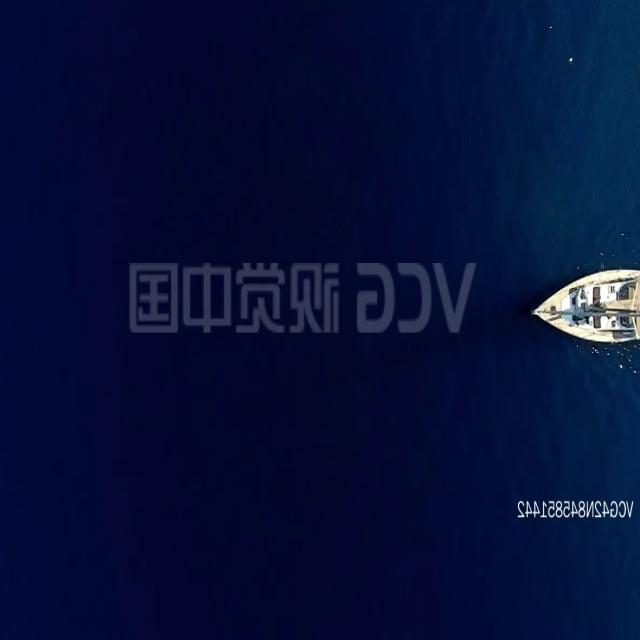sailboat: (532, 262, 640, 347)
